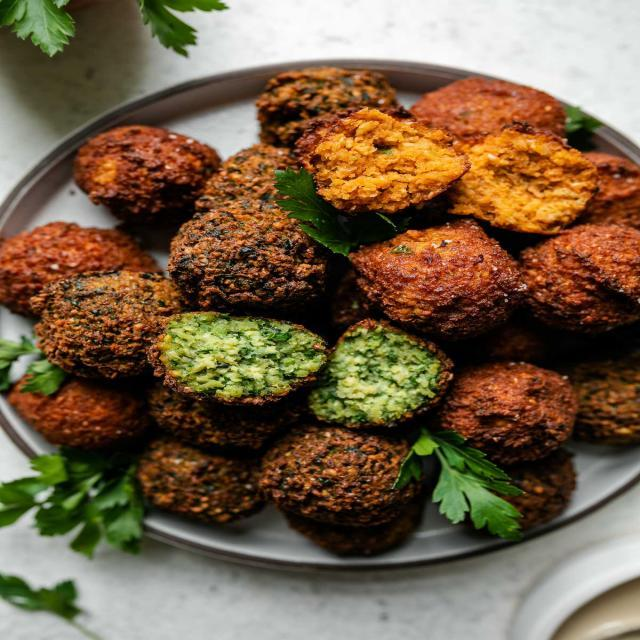flafel: (358, 221, 532, 337), (166, 205, 347, 303), (262, 420, 422, 523), (148, 311, 318, 407), (38, 270, 184, 374), (318, 315, 444, 433), (445, 357, 579, 467), (510, 222, 640, 334), (75, 124, 223, 214)
